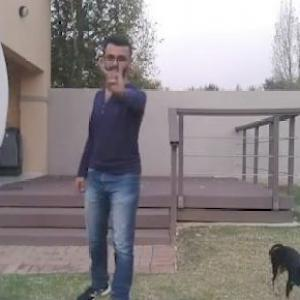takeoff-hand: (98, 57, 130, 96)
